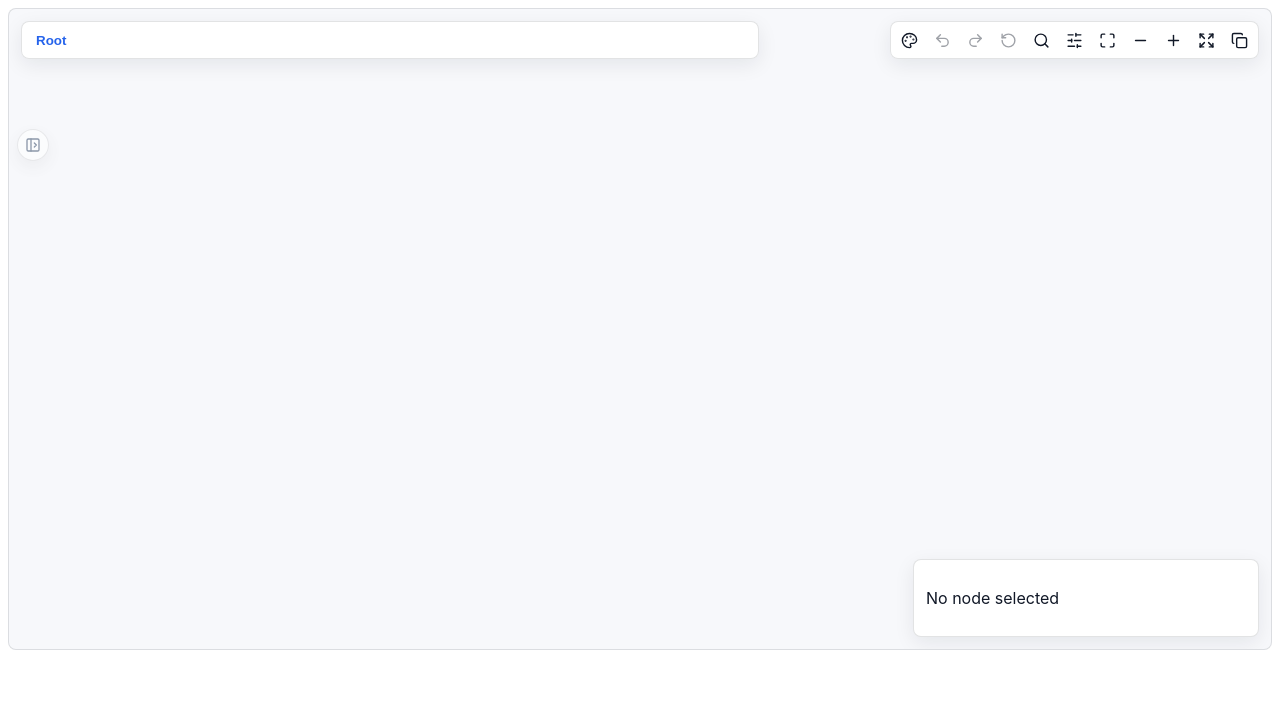
@my-mind-node/react › supports copying data from the toolbar copy dropdown
Hover over the element with class "mmn-toolbar__copy-container".
mouse_move(1240, 40)  # box [1225,26,1254,54]
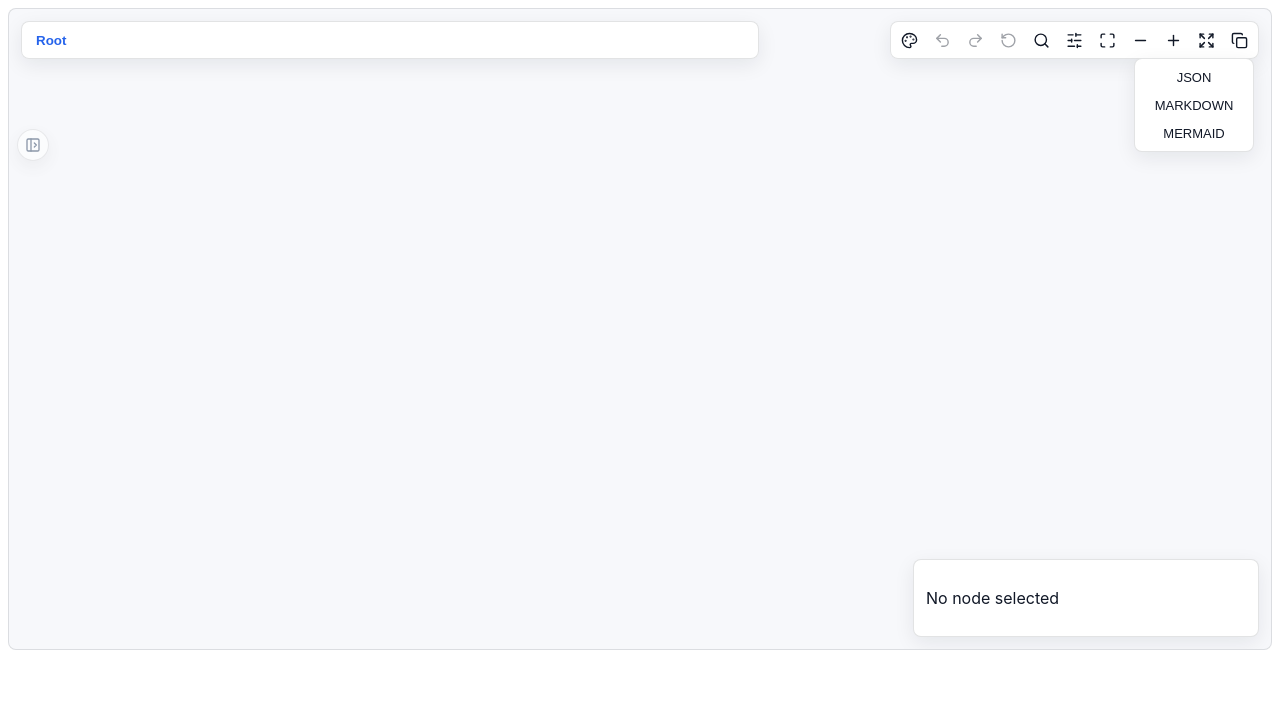
expect the menu with class "mmn-toolbar__copy-menu" is shown: met, box [1134,58,1254,152]
expect the number of menu items is 3: met
expect the menu item "MERMAID" is shown: met
Click the menu item "MERMAID".
click(1194, 133)  # box [1139,119,1249,147]
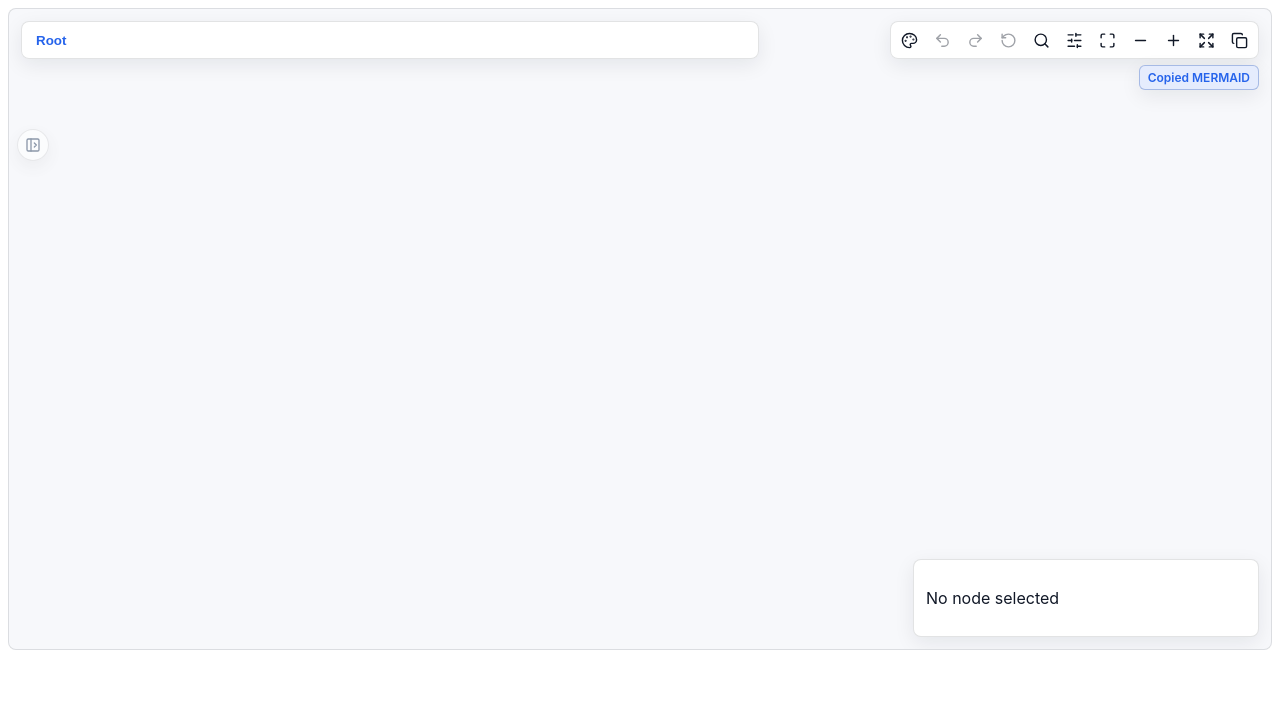
expect the message reads "Copied MERMAID": met, box [1139,65,1259,90]
